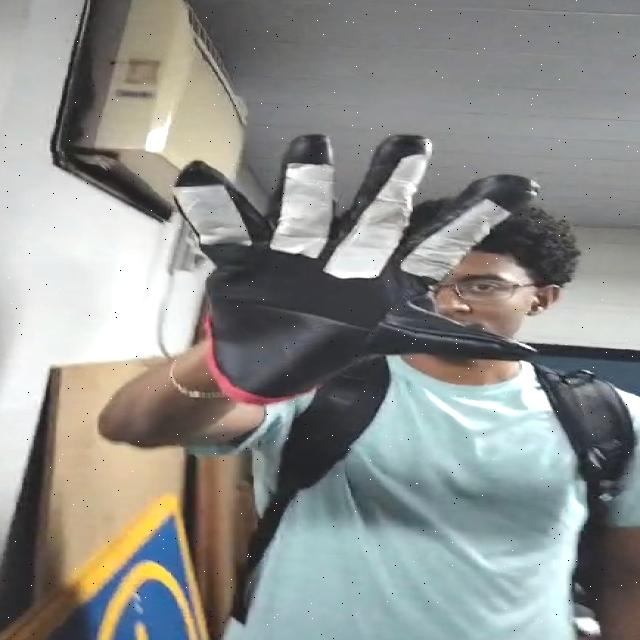Gloves: (158, 135, 531, 408)
